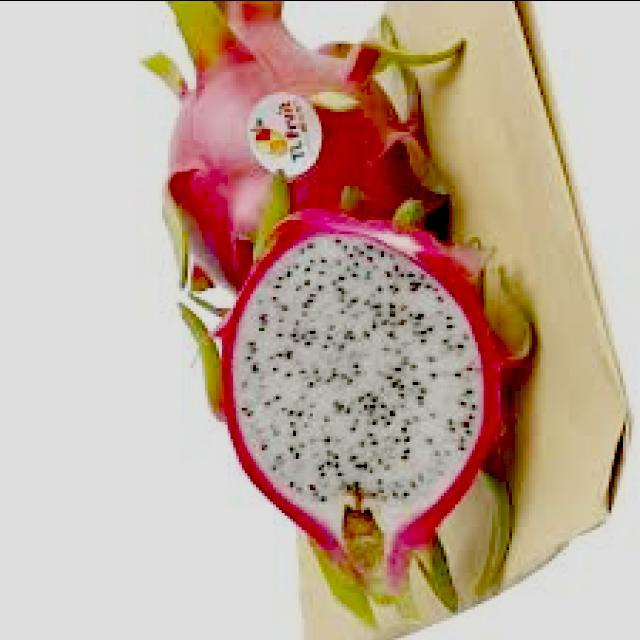trang: (179, 210, 539, 624), (139, 3, 475, 310)
